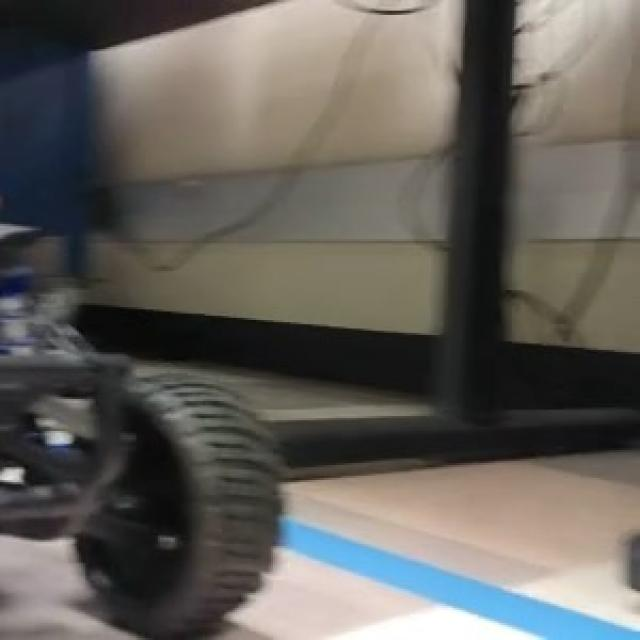obstacle: (1, 227, 283, 637)
